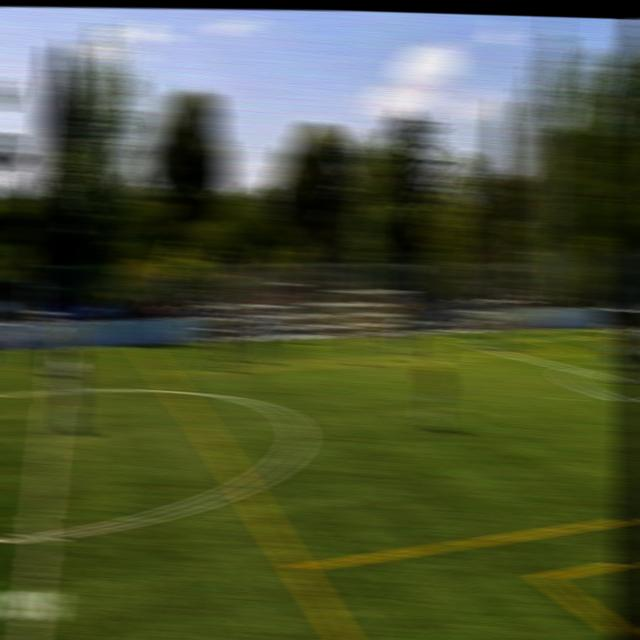bigarea_top_inner: (450, 333, 473, 351)
halfcircle_bottom: (18, 516, 60, 559)
halfcircle_top: (42, 381, 66, 405)
top_arc_area_intersection: (555, 360, 584, 378)
